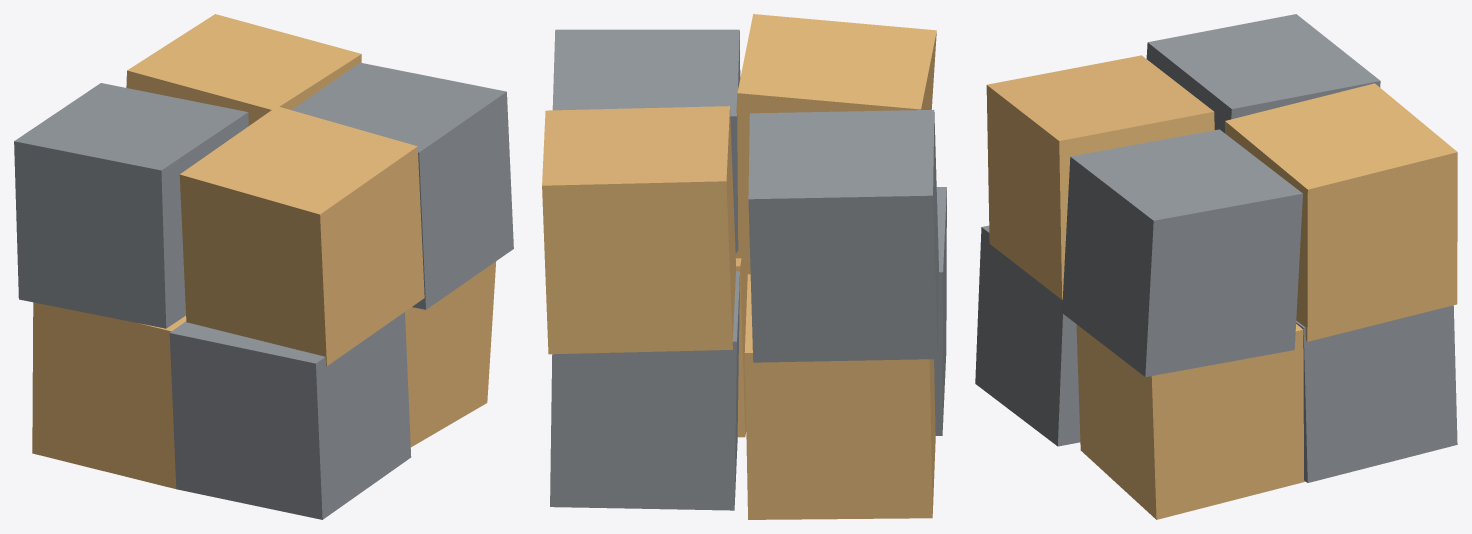
Rendered from barrel_steel_chunks.glb.
The picture shows the model from 3 angles, left to right: view 1: azimuth 30°, elevation 25°; view 2: azimuth 150°, elevation 25°; view 3: azimuth 270°, elevation 25°; orthographic projection. The views are drawn at different scales.
Visible parts, largest first — view 1: chunk_011, chunk_010, chunk_001, chunk_111, chunk_000, chunk_110, chunk_101; view 2: chunk_010, chunk_110, chunk_000, chunk_100, chunk_011, chunk_111, chunk_001, chunk_101; view 3: chunk_111, chunk_110, chunk_101, chunk_011, chunk_100, chunk_001, chunk_010.
Part boxes in pixels (x1,y1,x2,y2): chunk_011: (179, 106, 424, 366); chunk_010: (14, 83, 248, 328); chunk_001: (169, 312, 411, 519); chunk_111: (292, 62, 513, 309); chunk_000: (32, 302, 186, 488); chunk_110: (126, 14, 361, 125); chunk_101: (405, 261, 496, 447); chunk_010: (748, 110, 939, 362); chunk_110: (542, 106, 735, 354); chunk_000: (744, 274, 935, 519); chunk_100: (550, 271, 739, 510); chunk_011: (735, 14, 936, 260); chunk_111: (552, 29, 740, 253); chunk_001: (934, 187, 946, 435); chunk_101: (735, 258, 750, 437); chunk_111: (1062, 129, 1302, 376); chunk_110: (1225, 83, 1457, 341); chunk_101: (1076, 324, 1305, 519); chunk_011: (986, 55, 1214, 299); chunk_100: (1296, 305, 1457, 482); chunk_001: (975, 225, 1080, 446); chunk_010: (1146, 14, 1380, 132).
Size of the model in its own units: 1.43 by 1.04 by 1.41.
